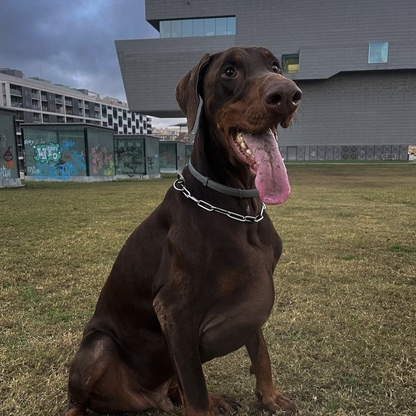doberman: (76, 44, 310, 416)
